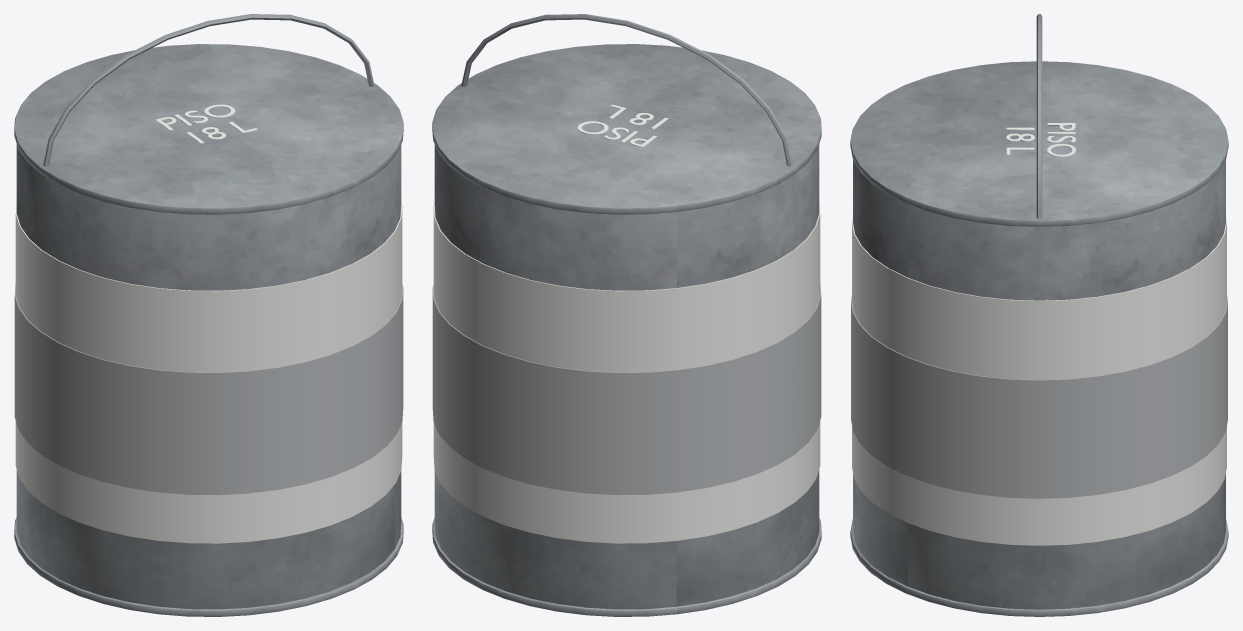
The model's file is PIN-TIN-006_anim.glb.
The picture shows the model from 3 angles, left to right: view 1: azimuth 30°, elevation 25°; view 2: azimuth 150°, elevation 25°; view 3: azimuth 270°, elevation 25°; orthographic projection. The views are drawn at different scales.
Visible parts, largest first — view 1: PIN-TIN-006_anim0; view 2: PIN-TIN-006_anim0; view 3: PIN-TIN-006_anim0.
Part boxes in pixels (left/top/right/bottom): PIN-TIN-006_anim0: left=14, top=14, right=403, bottom=616; PIN-TIN-006_anim0: left=432, top=14, right=821, bottom=616; PIN-TIN-006_anim0: left=850, top=14, right=1228, bottom=616.
Size of the model in its own units: 0.000304 by 0.000442 by 0.000304.
4 materials, 1 textured.
